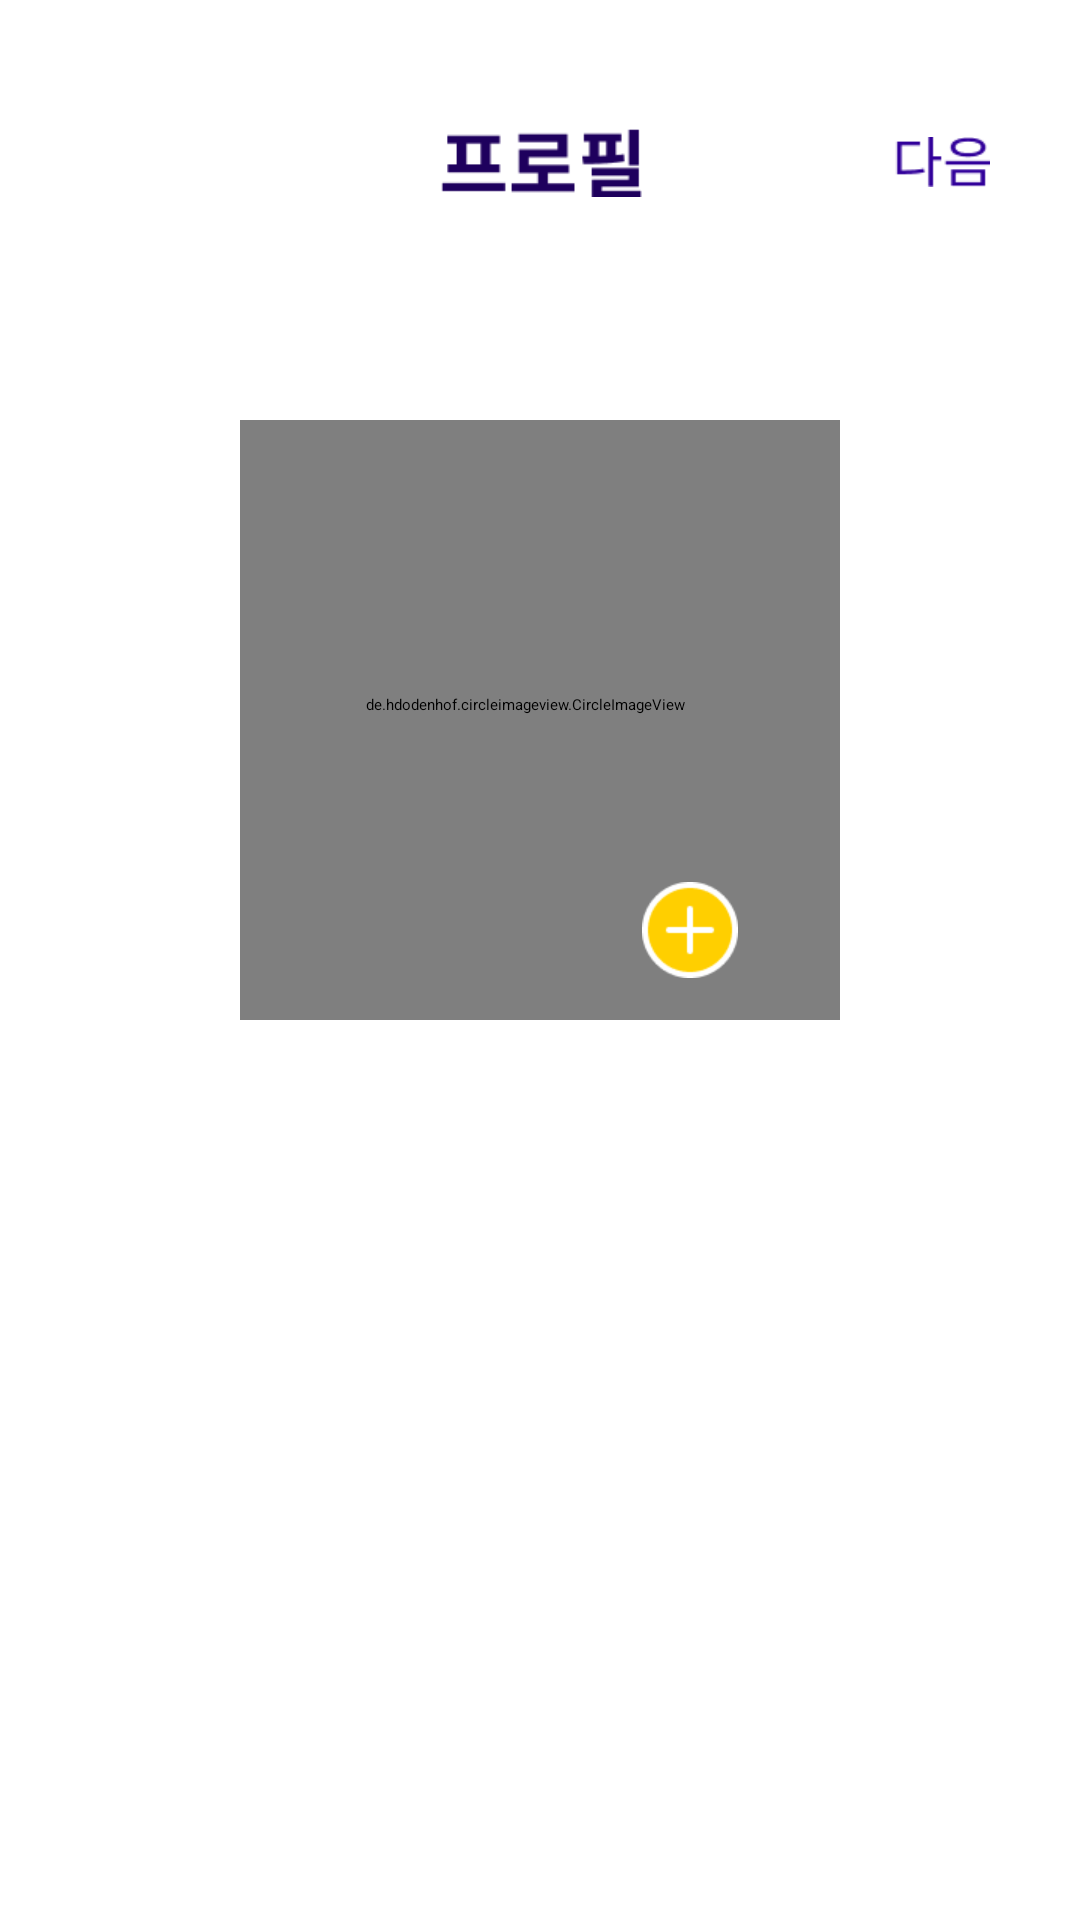

Icons on this 1080x1920 Android screen, each with the point to tap as point (x, y):
profile plus: point (690, 930)
